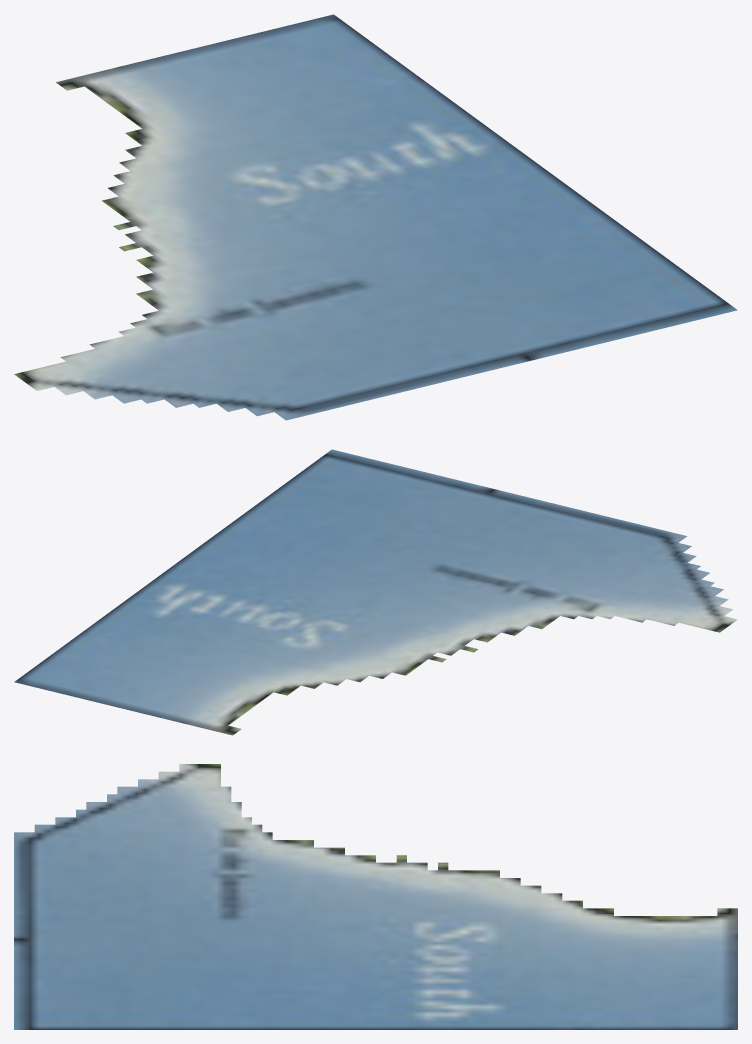
File: south-brazil-sea.gltf
3 views of the same model, one above another, from view 1: azimuth 30°, elevation 25°; view 2: azimuth 150°, elevation 25°; view 3: azimuth 270°, elevation 25° (orthographic). The views are drawn at different scales.
Parts seen in each view (by area): view 1: Plane; view 2: Plane; view 3: Plane.
Part boxes in pixels (x1,y1,x2,y2): Plane: (14, 14, 737, 420); Plane: (14, 449, 737, 735); Plane: (14, 764, 737, 1029).
Bounding box in the file's own units: 0.3456 × 0 × 0.3975.
Materials: 1 (1 with a texture image).
